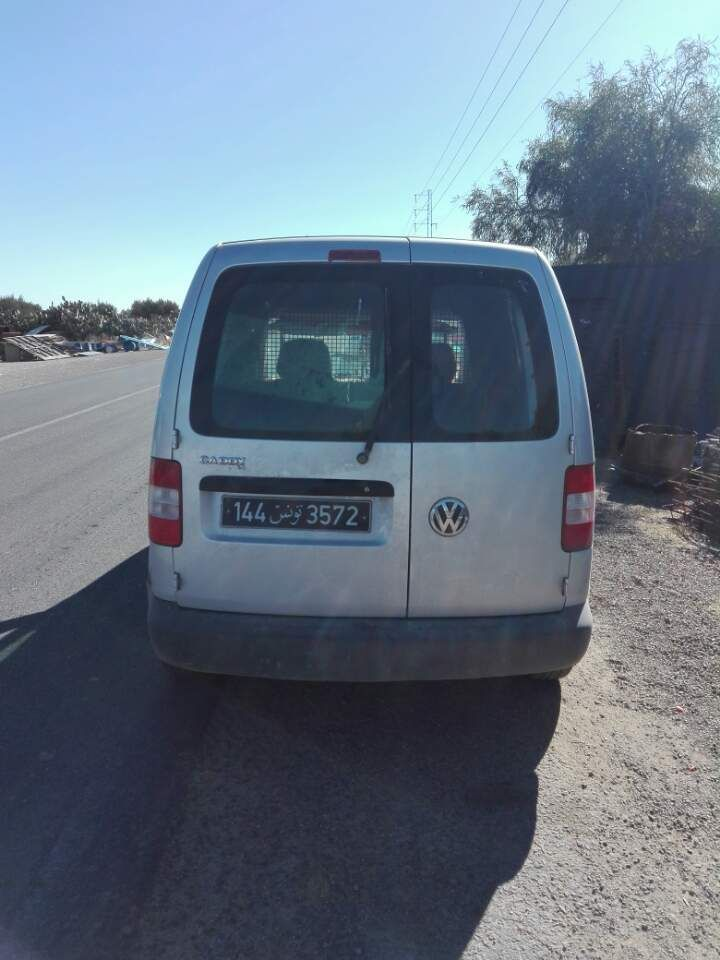LP: (217, 490, 376, 535)
